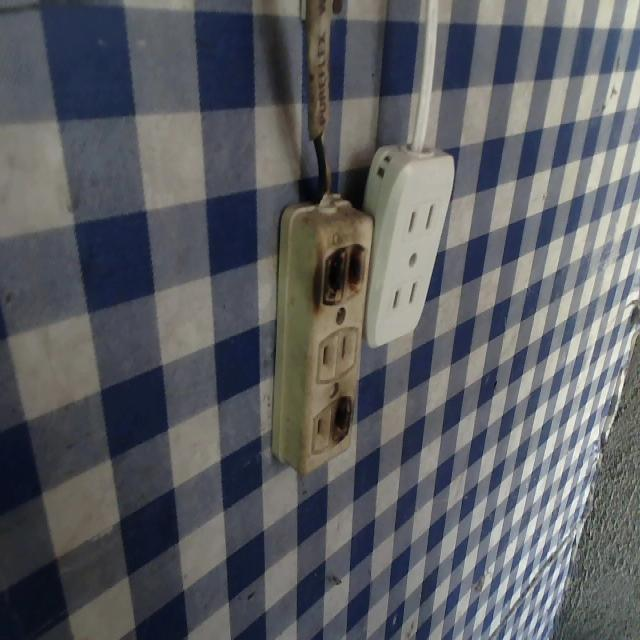-: (309, 244, 368, 313), (330, 395, 355, 448)
